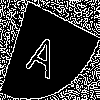A: (25, 24, 65, 80)
